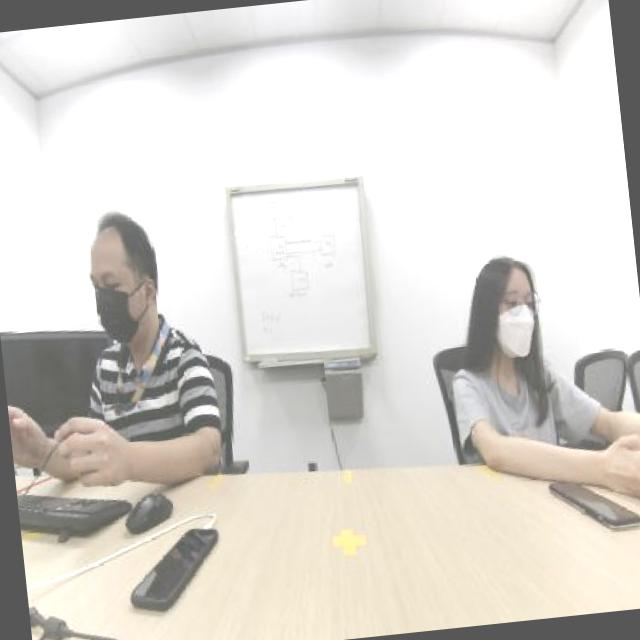Person: (419, 189, 593, 466), (70, 178, 224, 476)
